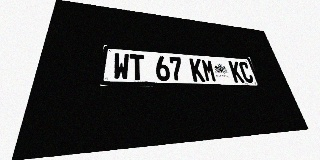6: (155, 56, 171, 81)
7: (168, 57, 184, 81)
C: (238, 62, 255, 83)
K: (189, 58, 205, 82), (228, 61, 245, 83)
M: (201, 59, 217, 82)
T: (130, 54, 145, 80)
W: (113, 53, 129, 80)
